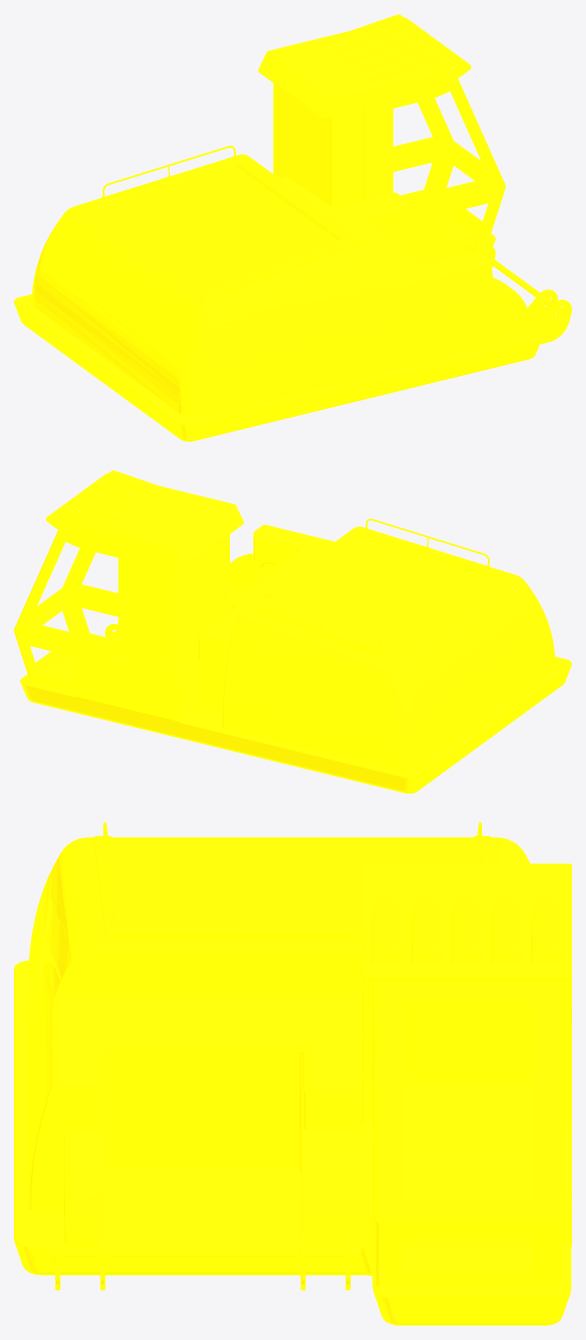
File: turret.dae
The picture shows the model from 3 angles, top to bottom: view 1: azimuth 30°, elevation 25°; view 2: azimuth 150°, elevation 25°; view 3: azimuth 270°, elevation 25°; orthographic projection. The views are drawn at different scales.
Parts seen in each view (by area): view 1: turret; view 2: turret; view 3: turret.
Part boxes in pixels (x1,y1,x2,y2): turret: (14, 14, 571, 441); turret: (14, 470, 571, 793); turret: (14, 822, 571, 1325).
Size of the model in its own units: 3.61 by 2.49 by 1.89.
